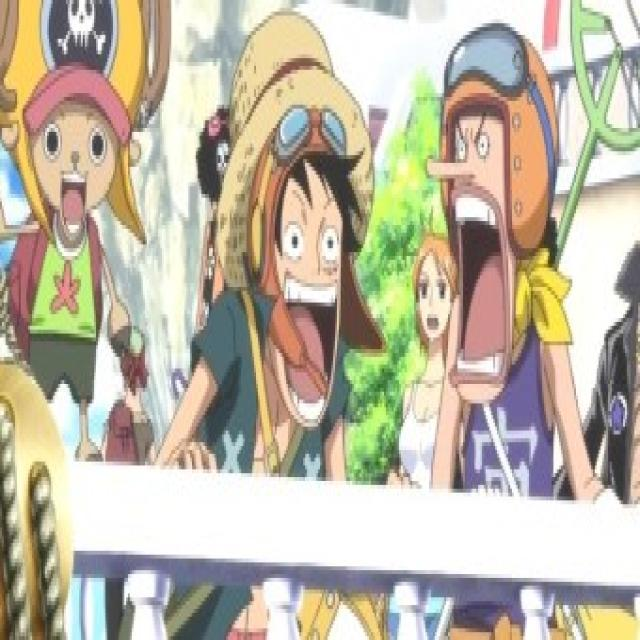Blook: (193, 98, 239, 206)
Chyopa: (0, 0, 154, 465)
Luffy: (209, 0, 371, 464)
Nami: (412, 228, 456, 346)
Usopp: (426, 20, 563, 405)
